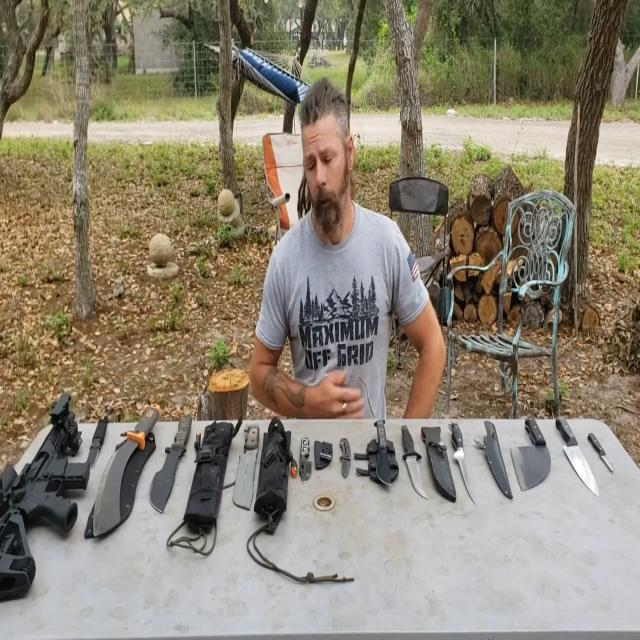knife: (97, 403, 160, 547), (142, 401, 212, 528), (503, 397, 546, 519), (548, 402, 604, 494), (230, 409, 273, 527), (447, 413, 486, 514), (578, 401, 622, 481), (404, 417, 440, 494), (375, 405, 400, 507), (80, 410, 114, 474), (296, 426, 324, 501), (338, 427, 361, 488)
long weapon: (0, 373, 114, 626)
